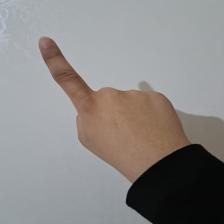one: (33, 32, 196, 172)
